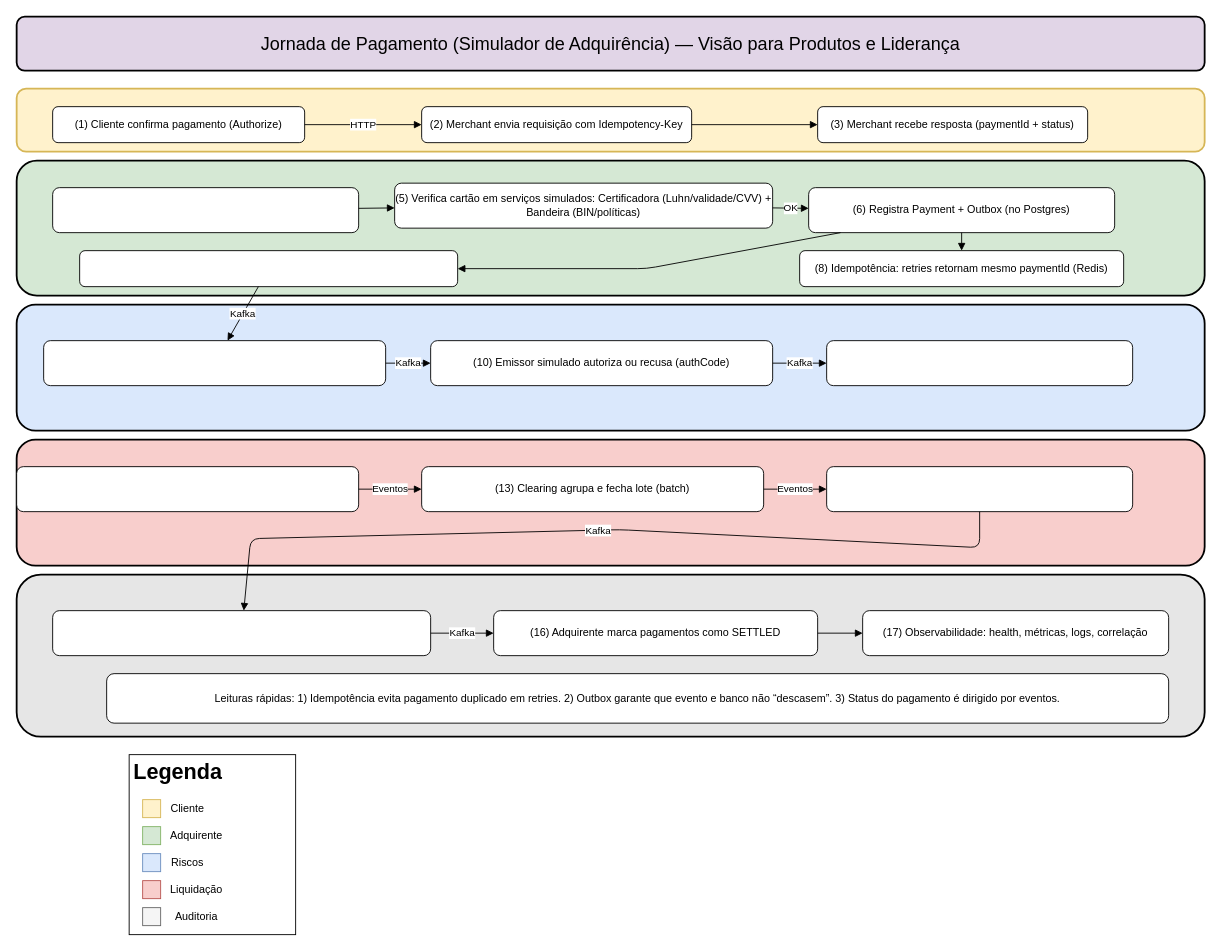
Some shapes in this 1220 by 950 pixel diagram are drawn without their labels. Each missing label, with the centre of its shape:
(11) Adquirente atualiza status AUTHORIZED/DECLINED: (x=979, y=363)
(12) Captura: merchant confirma entrega POST /capture: (x=187, y=489)
(14) Settlement liquida (e.g., T+0/T+1): (x=979, y=489)
(15) settlement.completed informa paymentIds pagos/confirmados: (x=241, y=633)
(4) Adquirente valida pedido (valor, moeda, formato): (x=205, y=210)
(7) Outbox Publisher publica evento payment.authorize.requested (Kafka): (x=268, y=268)
(9) Antifraude/Risco avalia aprova ou rejeita: (x=214, y=363)
